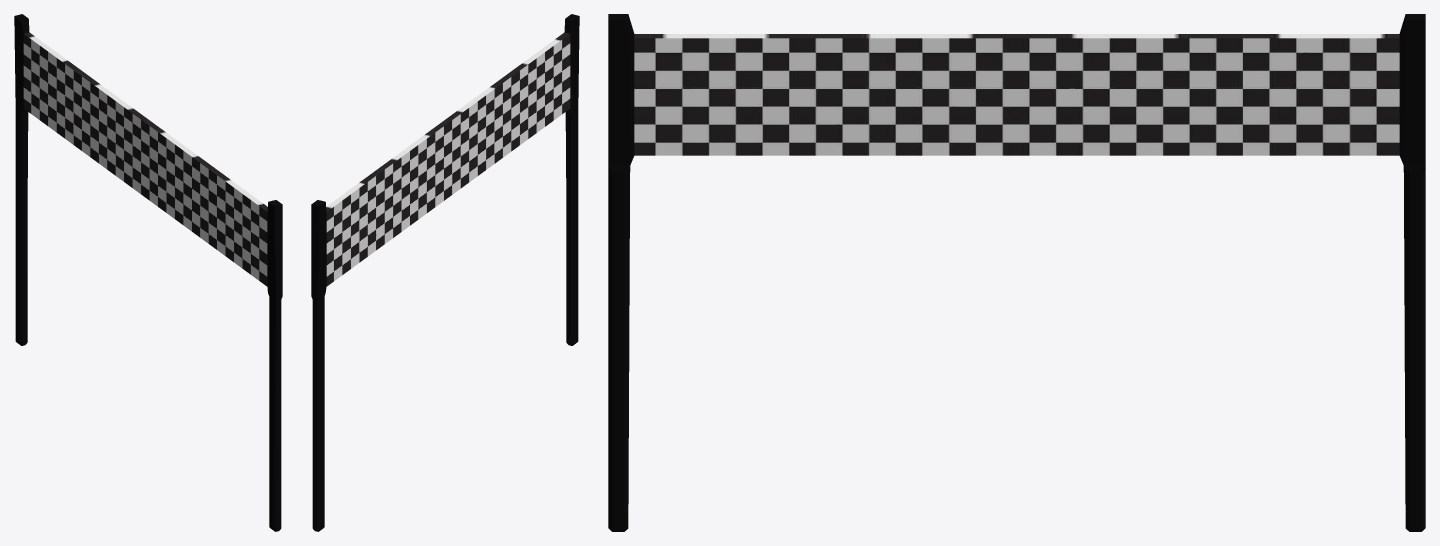
Rendered from meta_line_1.obj.
3 renders of one model, left to right at view 1: azimuth 30°, elevation 25°; view 2: azimuth 150°, elevation 25°; view 3: azimuth 270°, elevation 25°, orthographic. The views are drawn at different scales.
Visible parts, largest first — view 1: Cube.006; view 2: Cube.006; view 3: Cube.006.
Part boxes in pixels (x1,y1,x2,y2): Cube.006: (14,14,282,531); Cube.006: (311,14,579,531); Cube.006: (608,14,1425,531).
Size of the model in its own units: 0.4566 by 17.62 by 25.42.
